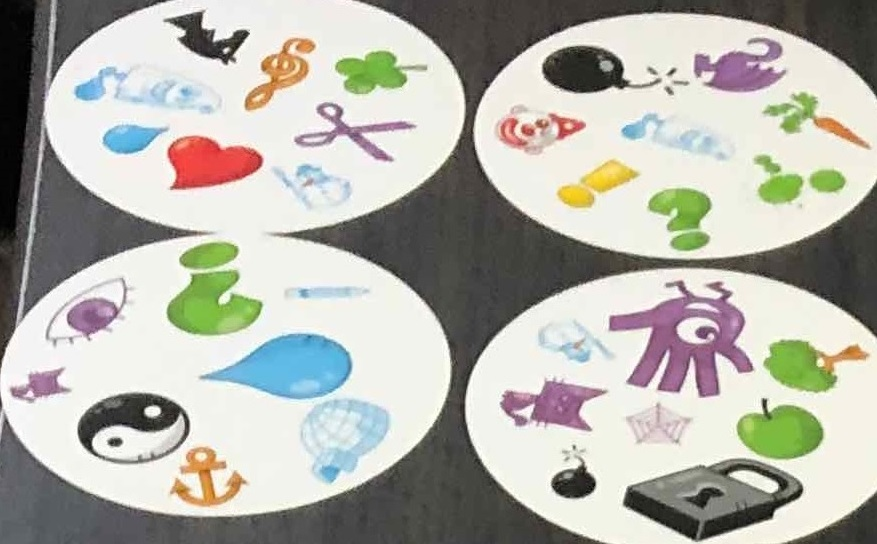ancre: (164, 441, 256, 508)
arbre: (755, 334, 871, 396)
bombe: (537, 44, 692, 101), (546, 447, 598, 504)
bonhomme_neige: (267, 155, 357, 213), (533, 315, 613, 369)
cadenas: (624, 457, 801, 540)
carotte: (759, 91, 867, 149)
chat: (487, 375, 610, 435), (6, 367, 70, 406)
cheval: (160, 8, 249, 68)
ciseau: (292, 98, 419, 165)
cle: (242, 32, 318, 114)
clown: (489, 105, 591, 156)
coeur: (156, 129, 272, 195)
crayon: (283, 280, 376, 306)
dooble: (618, 273, 760, 400)
dragon: (696, 36, 793, 95)
fantome: (72, 60, 235, 120), (616, 112, 744, 165)
goutte: (202, 329, 353, 399), (93, 122, 173, 159)
igloo: (294, 396, 395, 486)
oeuil: (37, 272, 139, 348)
point_exclamation: (547, 159, 648, 212)
point_interrogation: (161, 237, 267, 337), (646, 181, 718, 252)
pomme: (729, 396, 825, 458), (326, 49, 435, 96)
tache: (745, 151, 843, 209)
toile: (620, 400, 698, 449)
ying_yang: (70, 387, 192, 463)
